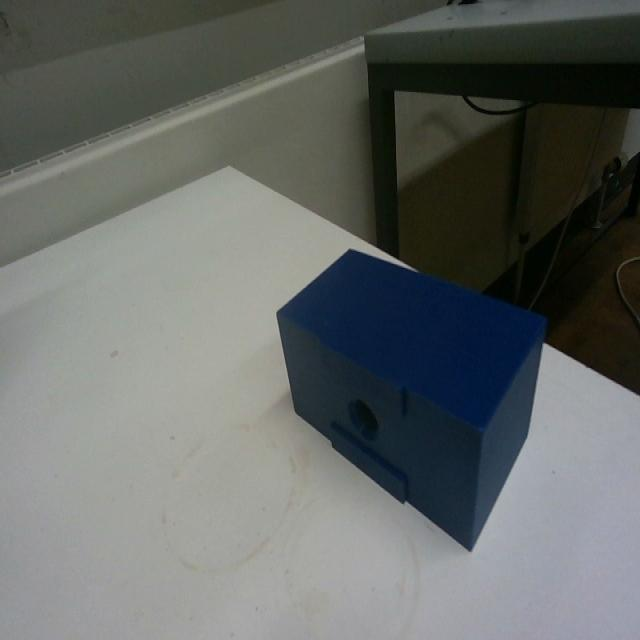Blue Cuboid: (274, 243, 549, 552)
